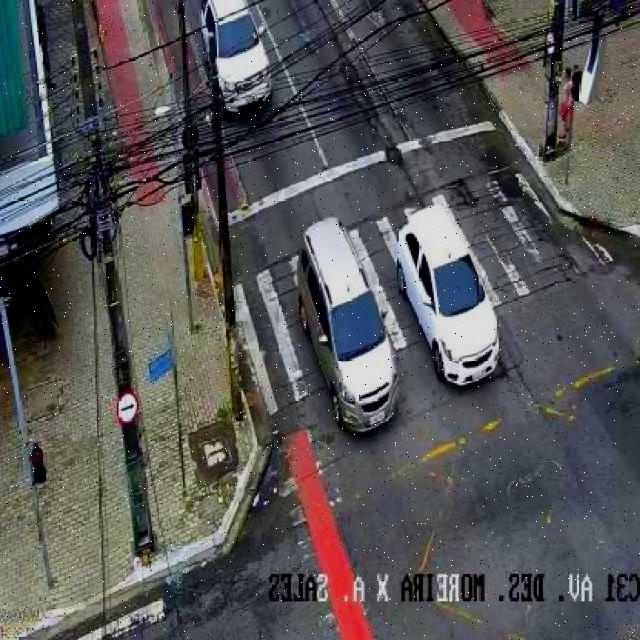Car: (295, 217, 400, 435), (397, 205, 502, 388), (198, 0, 275, 116)
